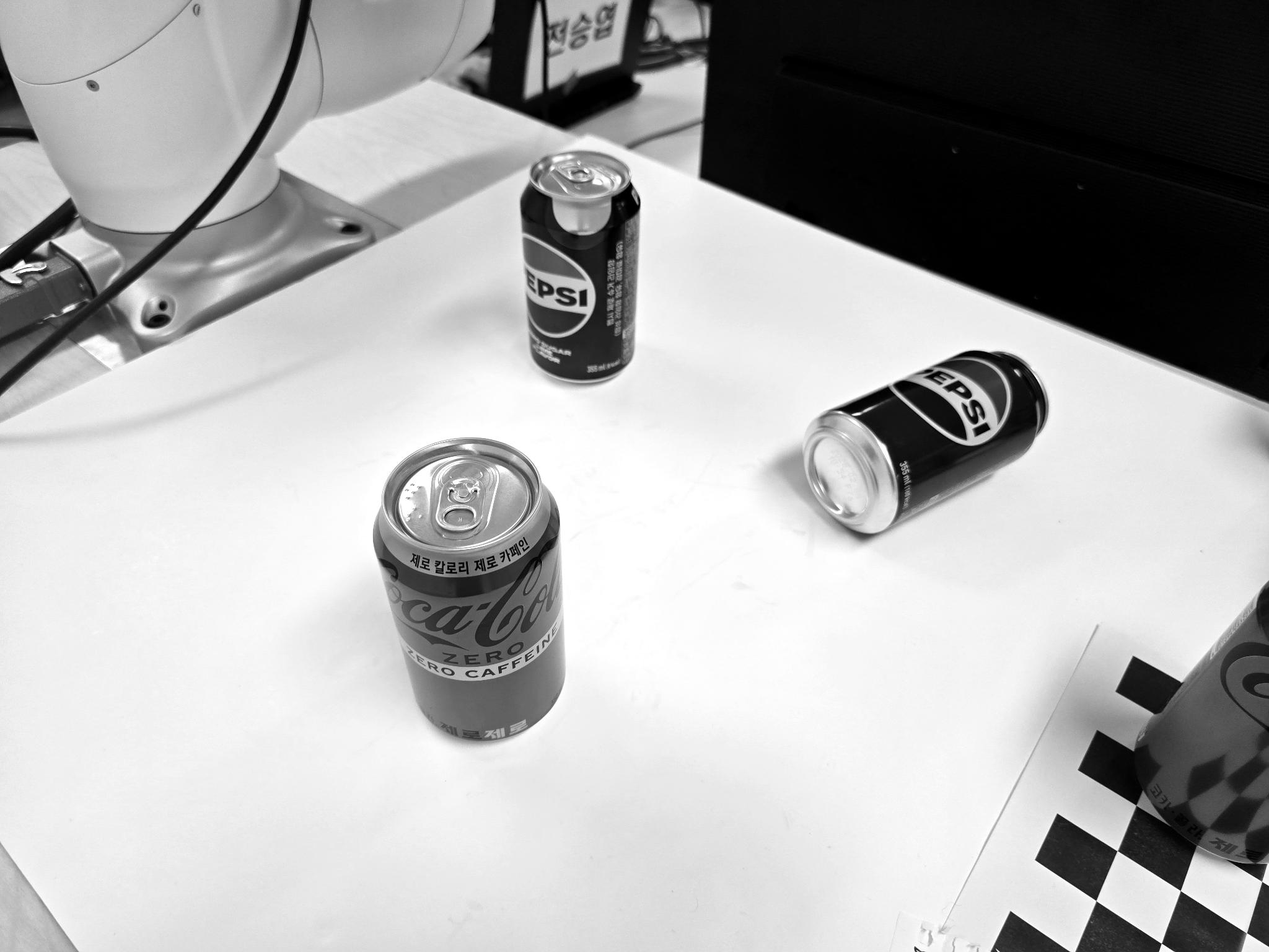can_coke_decaf: (373, 440, 563, 741)
can_pepsi: (802, 349, 1049, 539)
can_pepsi_zero: (522, 147, 642, 380)
